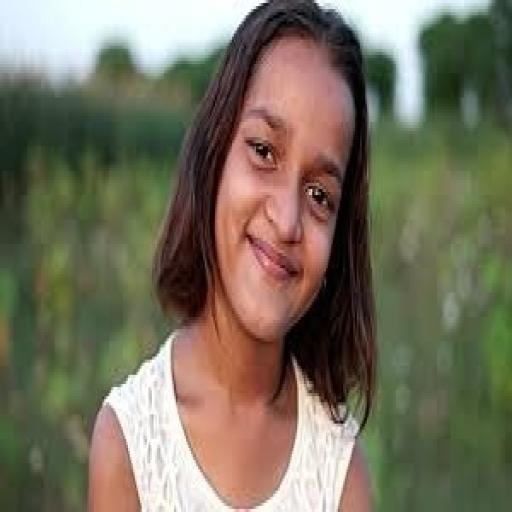laughing: (82, 0, 389, 506)
